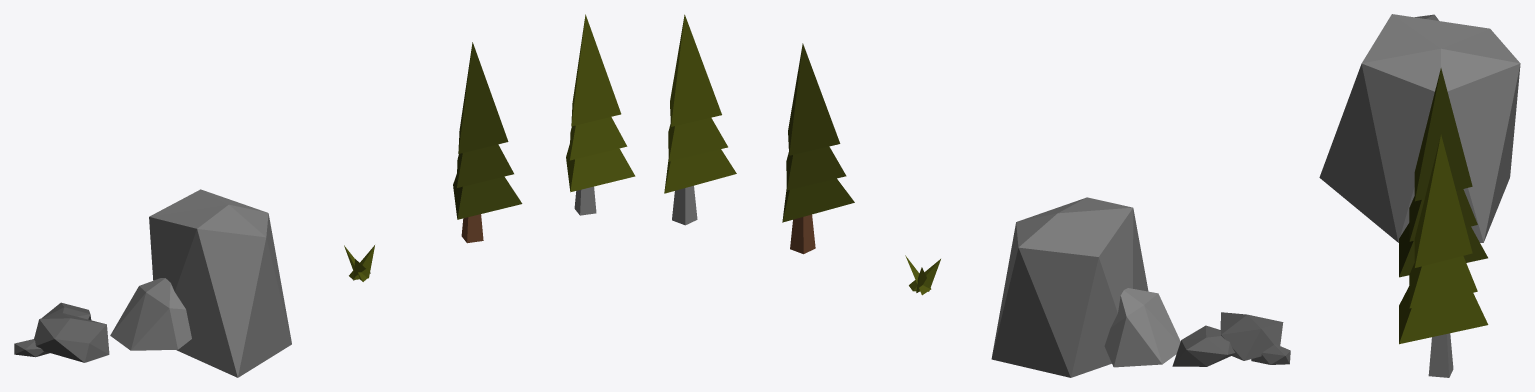
File: vegetation.glb
The picture shows the model from 3 angles, left to right: view 1: azimuth 30°, elevation 25°; view 2: azimuth 150°, elevation 25°; view 3: azimuth 270°, elevation 25°; orthographic projection. The views are drawn at different scales.
Visible parts, largest first — view 1: Boulder, Green Birch, Pine, Rock, Weed; view 2: Boulder, Green Birch, Pine, Rock, Weed; view 3: Boulder, Green Birch, Pine.
Boxes of the visible parts, bbox=[...] form: Boulder: bbox=[110, 189, 291, 377]; Green Birch: bbox=[566, 14, 635, 215]; Pine: bbox=[453, 42, 522, 243]; Rock: bbox=[14, 302, 109, 362]; Weed: bbox=[344, 245, 374, 281]; Boulder: bbox=[991, 197, 1180, 377]; Green Birch: bbox=[664, 14, 736, 225]; Pine: bbox=[782, 43, 854, 254]; Rock: bbox=[1172, 312, 1290, 366]; Weed: bbox=[905, 255, 940, 295]; Boulder: bbox=[1319, 14, 1520, 242]; Green Birch: bbox=[1399, 134, 1488, 377]; Pine: bbox=[1399, 68, 1487, 277].
Size of the model in its own units: 16.13 by 6.13 by 3.82.
Materials: 1 (1 with a texture image).
